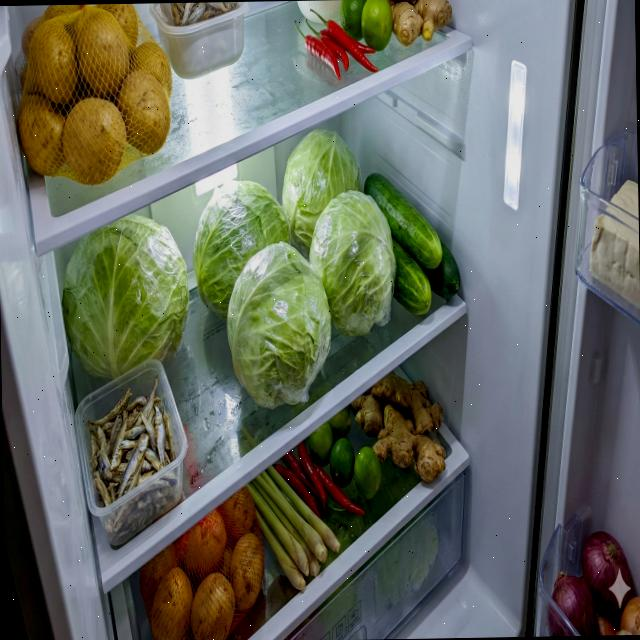anchovies: (86, 374, 181, 544)
cabbage: (60, 212, 190, 384), (224, 240, 332, 410), (191, 176, 292, 325), (308, 188, 398, 338), (280, 126, 363, 263)
chili: (272, 438, 366, 520), (294, 7, 378, 80)
cucumber: (363, 170, 461, 318)
ginger: (348, 368, 446, 484), (386, 0, 452, 46)
lemongrass: (244, 463, 340, 593)
lime: (308, 402, 382, 500), (339, 0, 393, 51)
onion: (545, 530, 640, 636)
potato: (13, 2, 175, 188), (137, 484, 265, 640)
tofu: (586, 178, 640, 312)
